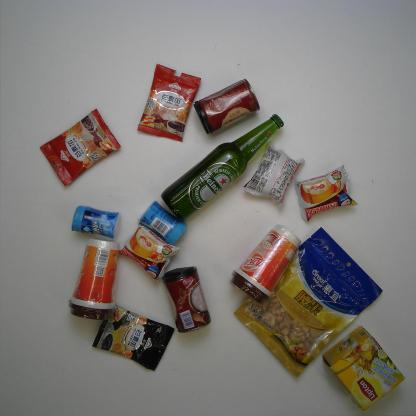Alcohol: (160, 112, 286, 221)
Canned Food: (193, 78, 260, 134), (162, 266, 212, 334)
Dessert: (241, 140, 306, 209), (118, 222, 180, 283), (294, 164, 358, 223)
Dried Fruit: (232, 226, 383, 377)
Gum: (138, 199, 188, 246), (70, 204, 122, 240)
Instant Drink: (322, 326, 405, 412), (40, 107, 122, 187), (228, 222, 301, 308), (91, 303, 176, 371), (136, 63, 202, 142), (67, 237, 120, 321)
